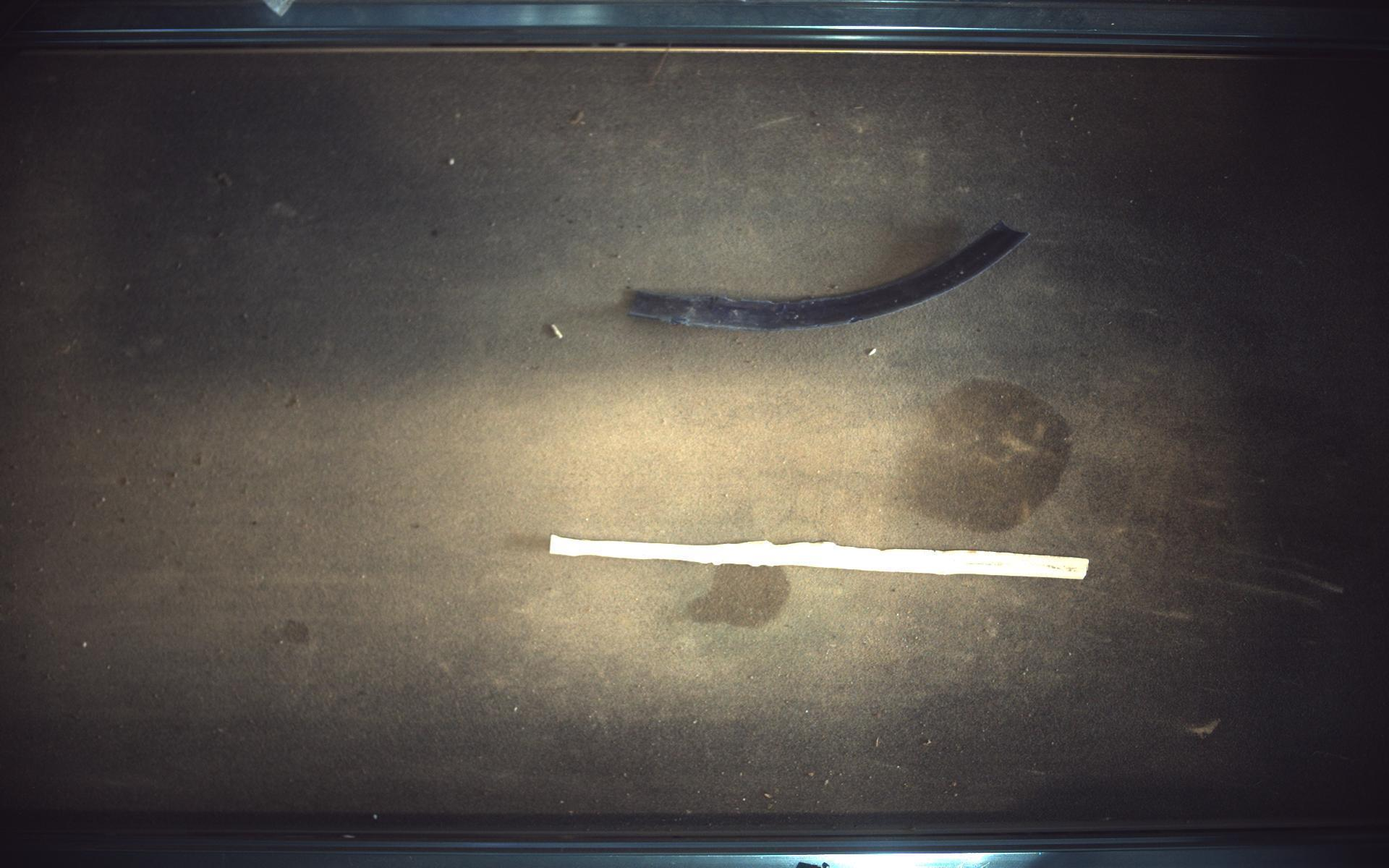plastic: (629, 221, 1029, 331), (550, 535, 1092, 581)
